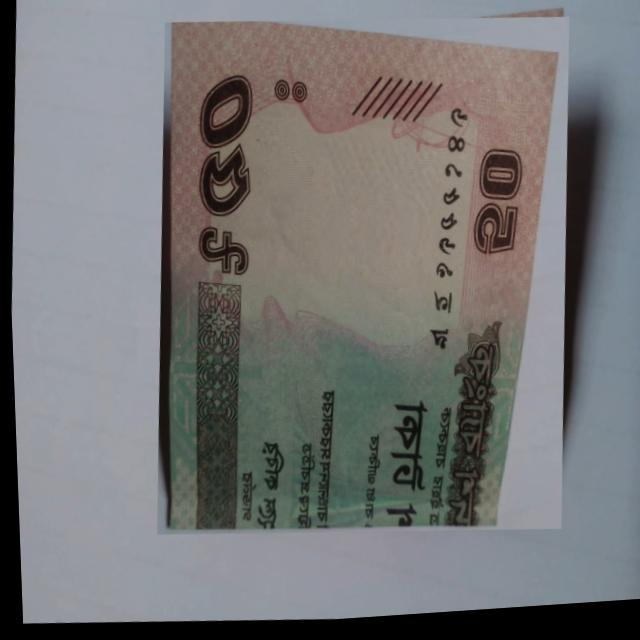Taka: (138, 4, 584, 557)
